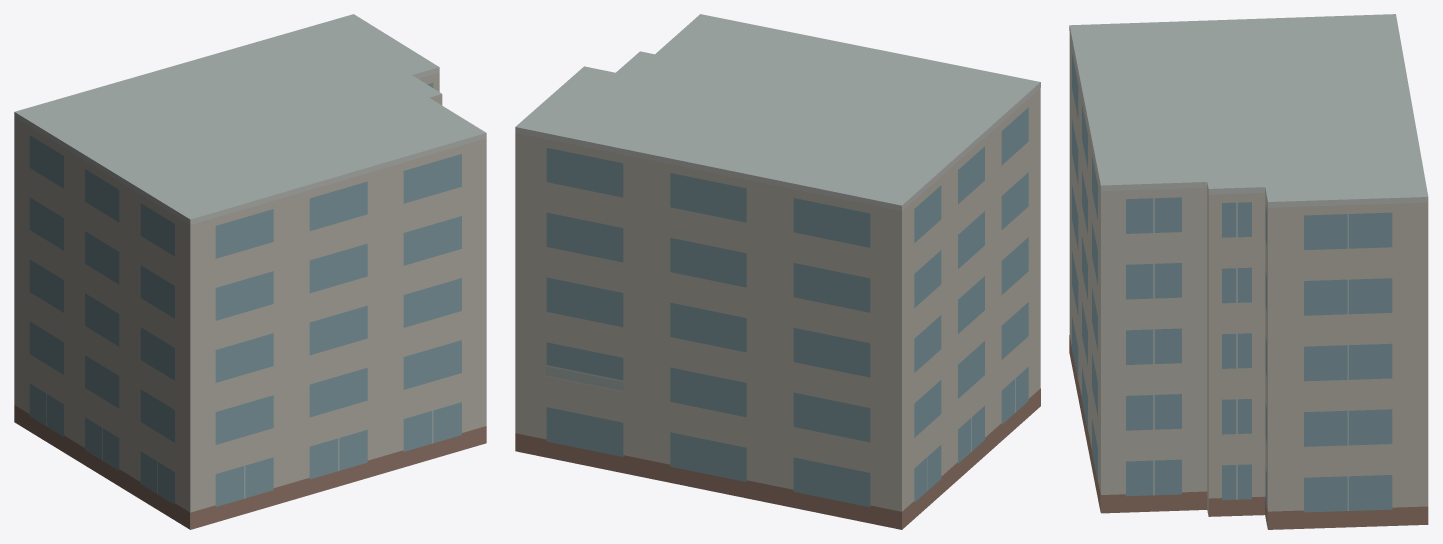
File: survey-upis-32750740.glb
3 renders of one model, left to right at view 1: azimuth 30°, elevation 25°; view 2: azimuth 150°, elevation 25°; view 3: azimuth 270°, elevation 25°, orthographic. The views are drawn at different scales.
Visible parts, largest first — view 1: survey-upis-32750740.tmp; view 2: survey-upis-32750740.tmp; view 3: survey-upis-32750740.tmp.
Part boxes in pixels (x1,y1,x2,y2): survey-upis-32750740.tmp: [14, 14, 486, 529]; survey-upis-32750740.tmp: [515, 14, 1040, 529]; survey-upis-32750740.tmp: [1069, 14, 1428, 529].
Bounding box in the file's own units: 17.17 × 13.95 × 13.85.
